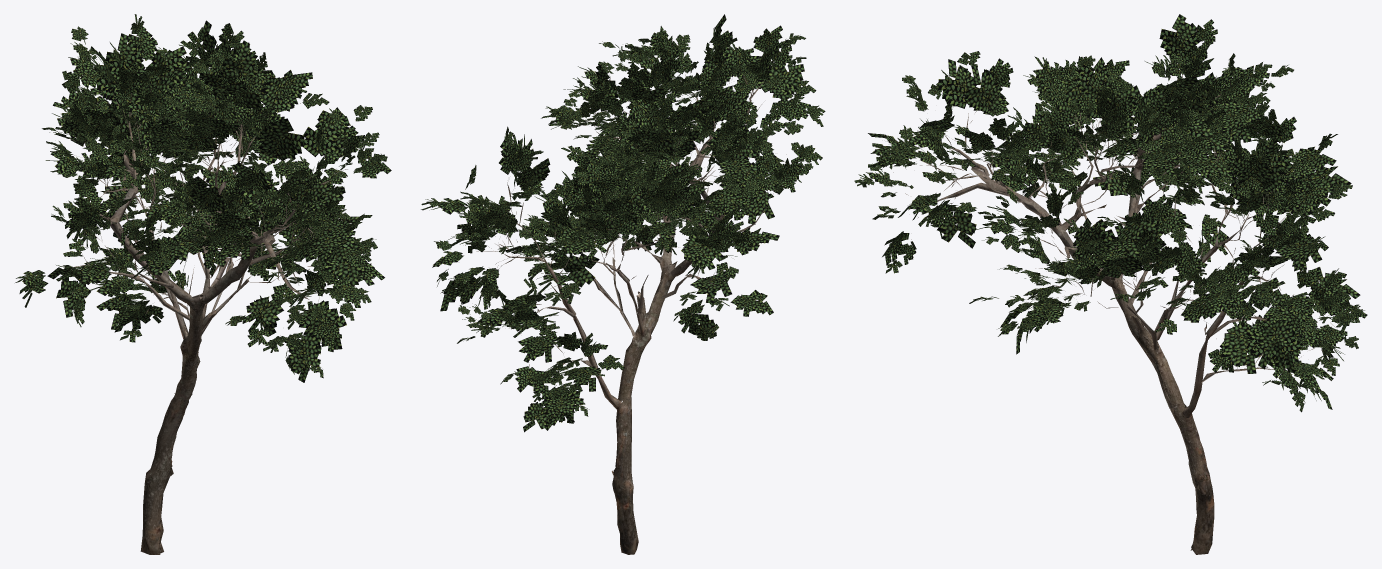
Rendered from tree-near.glb.
The picture shows the model from 3 angles, left to right: view 1: azimuth 30°, elevation 25°; view 2: azimuth 150°, elevation 25°; view 3: azimuth 270°, elevation 25°; orthographic projection. The views are drawn at different scales.
Visible parts, largest first — view 1: tree_small_02_LOD0.002, Restored_trunk_near, Restored_branches_near; view 2: tree_small_02_LOD0.002, Restored_trunk_near, Restored_branches_near; view 3: tree_small_02_LOD0.002, Restored_trunk_near, Restored_branches_near.
Part boxes in pixels (x1=…): tree_small_02_LOD0.002: x1=15, y1=14, x2=391, y2=382; Restored_trunk_near: x1=99, y1=154, x2=295, y2=554; Restored_branches_near: x1=69, y1=57, x2=347, y2=348; tree_small_02_LOD0.002: x1=421, y1=14, x2=825, y2=432; Restored_trunk_near: x1=532, y1=138, x2=724, y2=554; Restored_branches_near: x1=465, y1=56, x2=786, y2=370; tree_small_02_LOD0.002: x1=854, y1=14, x2=1367, y2=412; Restored_trunk_near: x1=971, y1=127, x2=1247, y2=554; Restored_branches_near: x1=889, y1=75, x2=1346, y2=384.
Bounding box in the file's own units: 2.93 × 4.57 × 4.27.
Materials: 3 (3 with a texture image).
